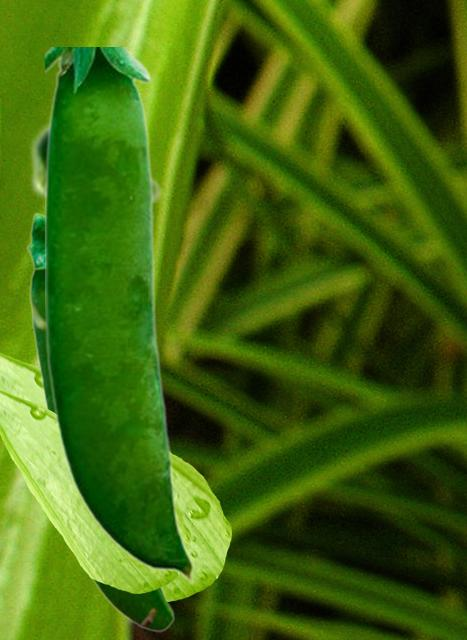pea: (45, 47, 193, 582), (27, 117, 165, 627), (26, 211, 173, 631)
